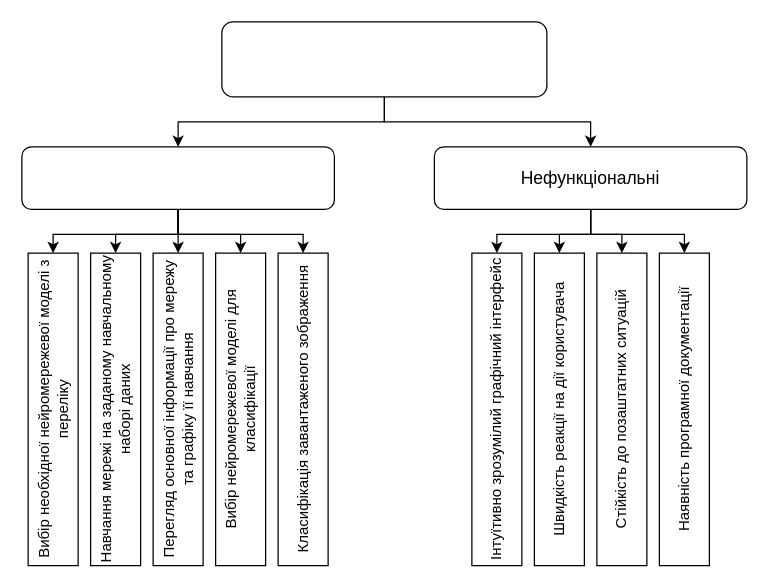
The diagram is 769 pixels wide and 588 high, and some of its shapes have lost their labels. Here are the shapes that lost their labels. From the top down, the centre of each, then its label:
the point at 384,59: Вимоги до програмного забезпечення
the point at 177,177: Функціональні
